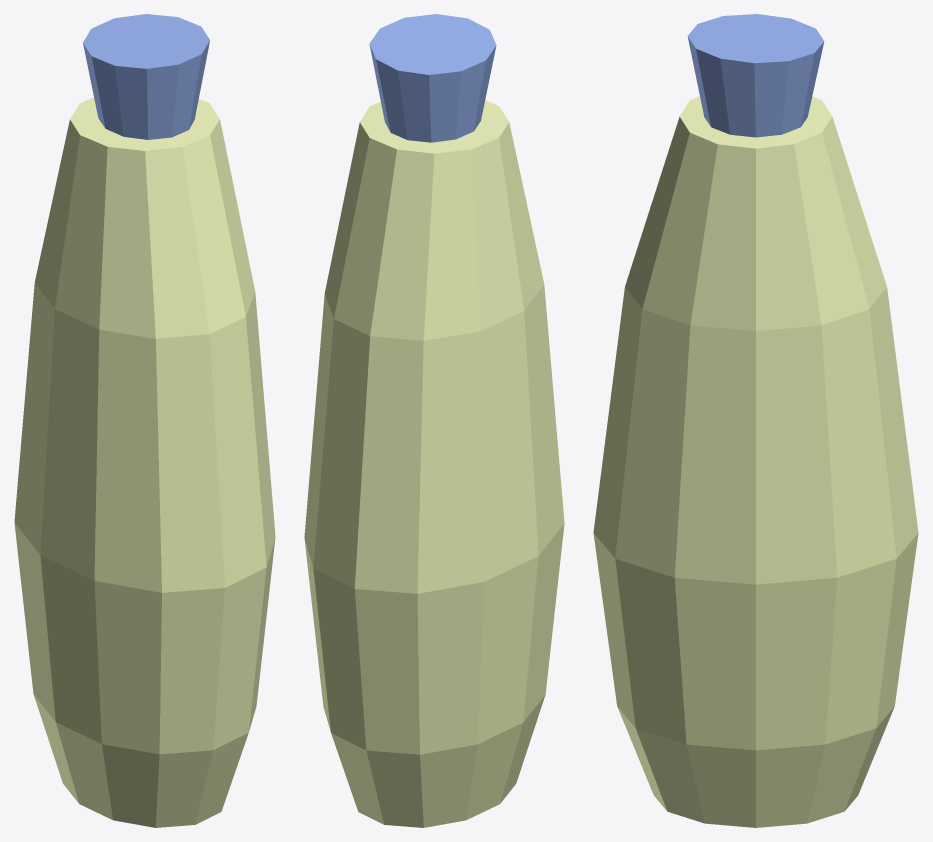
File: Mayonaise.fbx
3 views of the same model, side by side, from view 1: azimuth 30°, elevation 25°; view 2: azimuth 150°, elevation 25°; view 3: azimuth 270°, elevation 25° (orthographic).
Parts seen in each view (by area): view 1: Mayonaise; view 2: Mayonaise; view 3: Mayonaise.
Part boxes in pixels (bbox=[...]): Mayonaise: bbox=[14, 14, 275, 827]; Mayonaise: bbox=[304, 14, 564, 827]; Mayonaise: bbox=[593, 14, 918, 827].
Bounding box in the file's own units: 8.26 × 28.28 × 10.96.
